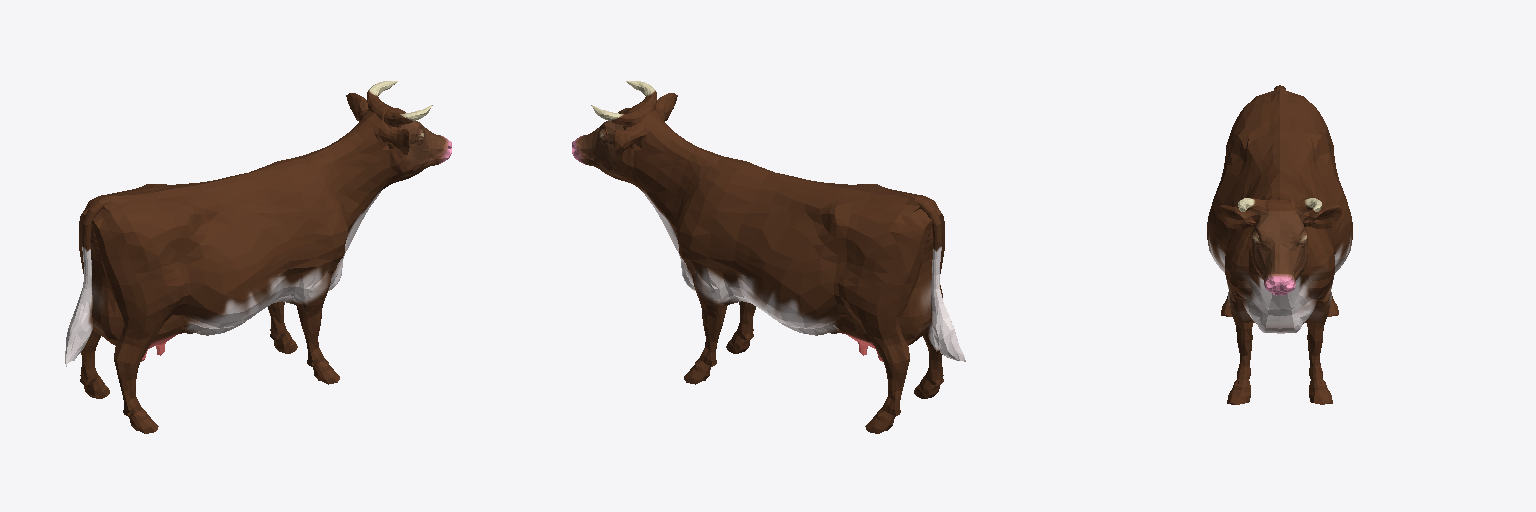
3 renders of one model, left to right at view 1: azimuth 30°, elevation 25°; view 2: azimuth 150°, elevation 25°; view 3: azimuth 270°, elevation 25°, orthographic.
Visible parts, largest first — view 1: cow; view 2: cow; view 3: cow.
Part boxes in pixels (bbox=[...]): cow: bbox=[65, 81, 451, 433]; cow: bbox=[572, 81, 965, 433]; cow: bbox=[1207, 85, 1352, 404].
Bounding box in the file's own units: 10.44 × 6.4 × 3.4.
1 materials, 1 textured.